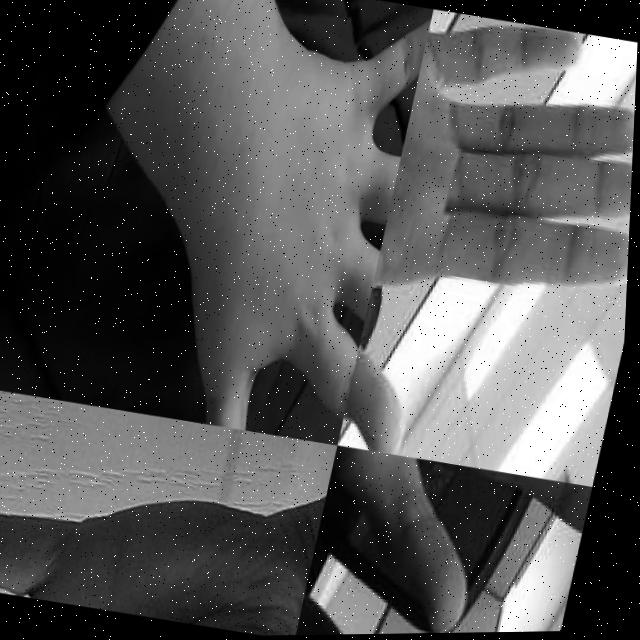hand: (339, 10, 639, 492), (147, 0, 433, 448), (0, 380, 343, 640), (304, 443, 598, 636)
